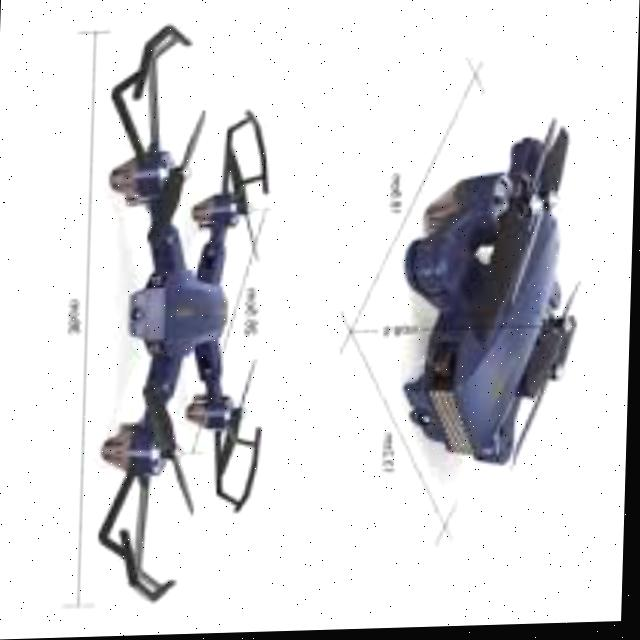drone: (75, 28, 290, 617)
